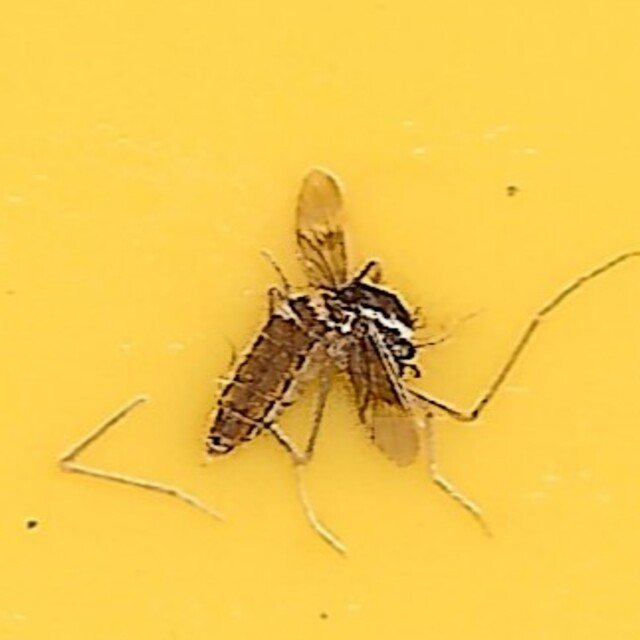Nematocera: (198, 165, 442, 475)
